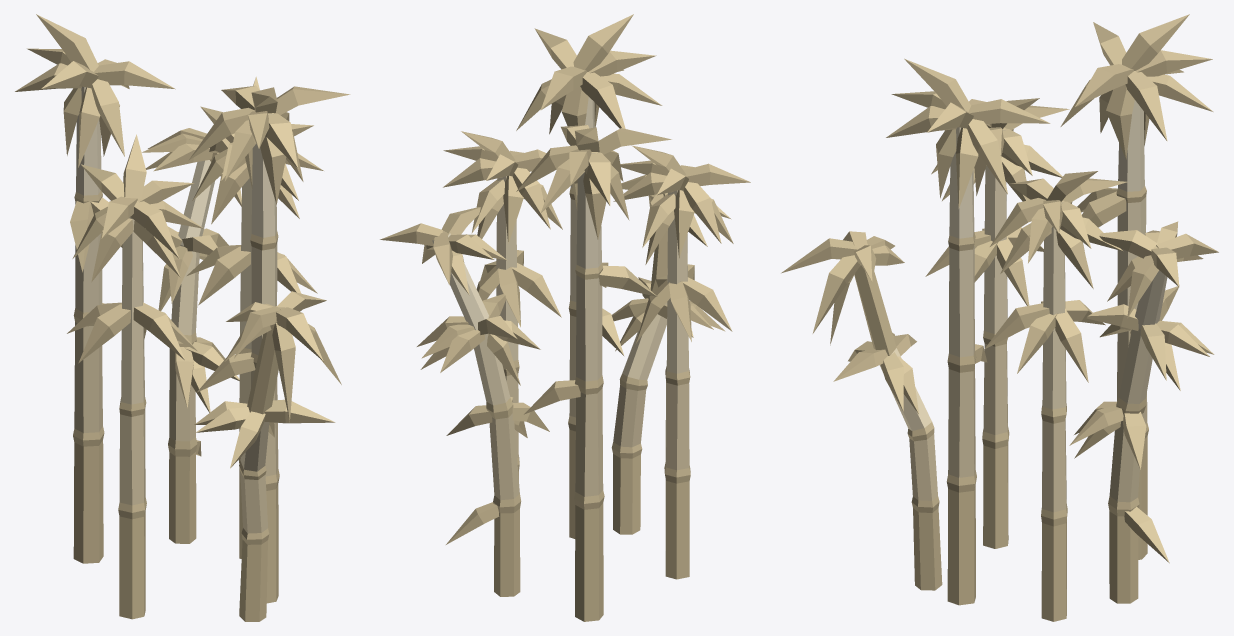
The model's file is bamboo_leaf_2.fbx.
3 views of the same model, side by side, from view 1: azimuth 30°, elevation 25°; view 2: azimuth 150°, elevation 25°; view 3: azimuth 270°, elevation 25° (orthographic). The views are drawn at different scales.
Parts seen in each view (by area): view 1: bamboo_leaf_2; view 2: bamboo_leaf_2; view 3: bamboo_leaf_2.
Part boxes in pixels (left/top/right/bottom): bamboo_leaf_2: left=15, top=14, right=350, bottom=621; bamboo_leaf_2: left=380, top=14, right=750, bottom=621; bamboo_leaf_2: left=781, top=14, right=1218, bottom=621.
Bounding box in the file's own units: 267 × 489 × 368.
